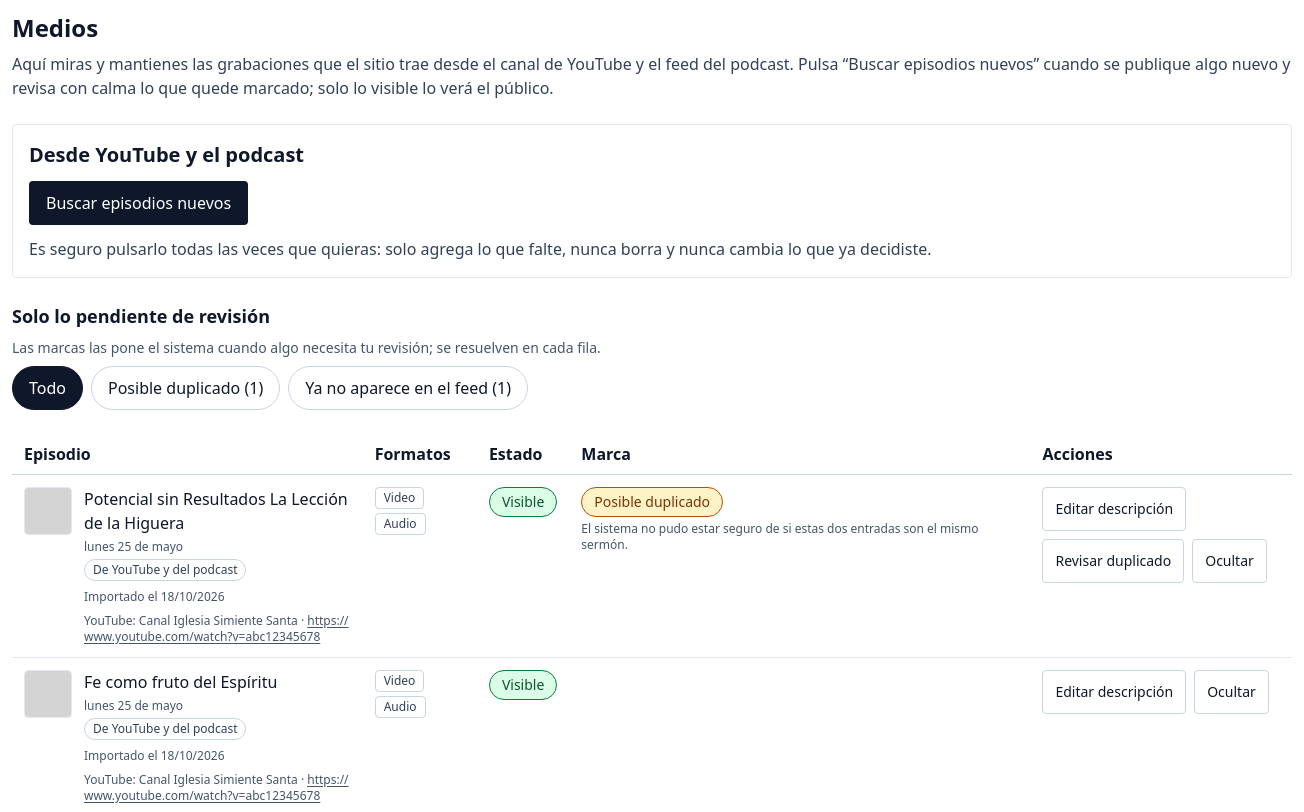
it: MediosPage · filtro de marcas (⟲ D-10) › muestra las pastillas con sus conteos y filtra por el parámetro real
The width and height of the screenshot is (1304, 812).
Expected: the button "Ya no aparece en el feed (1)" is shown, 288,366 -> 528,410
What coordinates should you click on to do the following:
click the button "Posible duplicado (1)"
I would click on:
 (186, 388)
Its box is 91,366 -> 280,410.
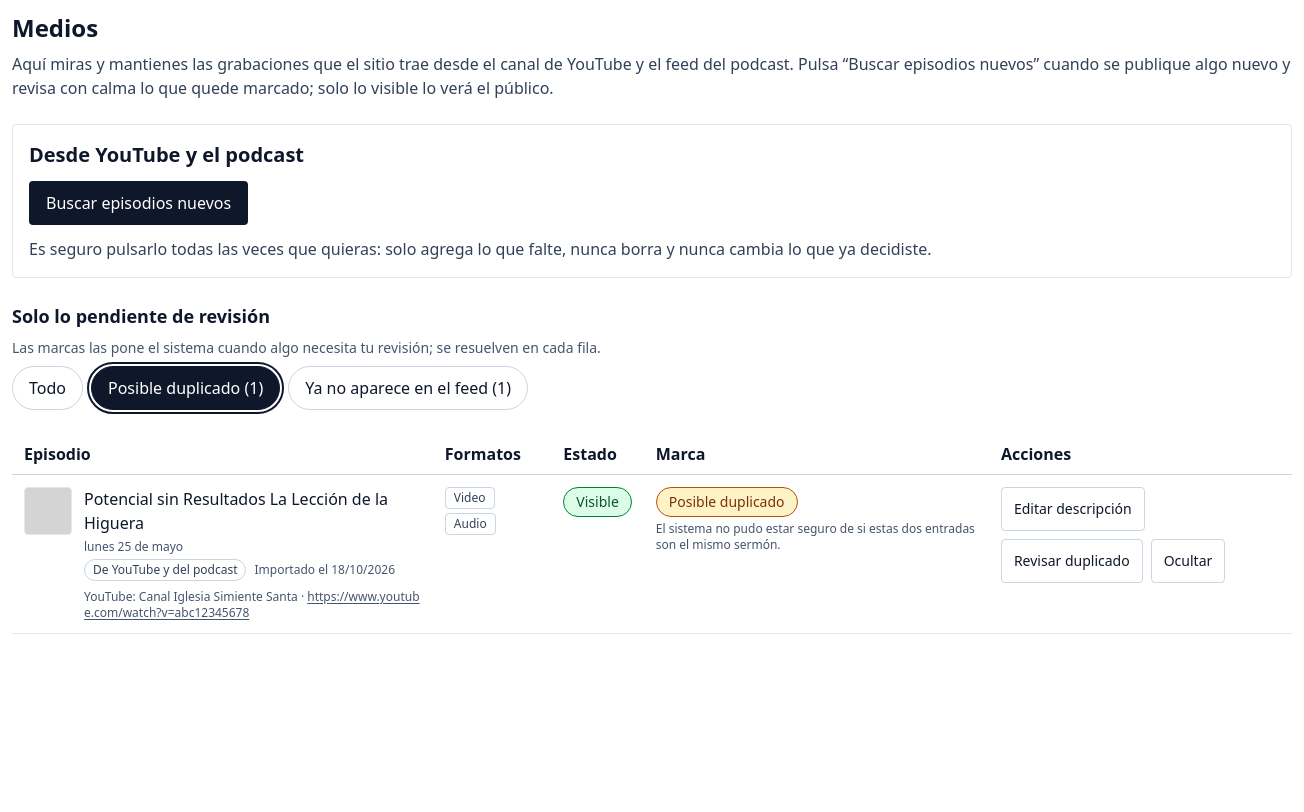
Expected: the text "Potencial sin Resultados La Lección de la Higuera" is shown, 84,487 -> 421,535
Now the text "Fe como fruto del Espíritu" is gone
